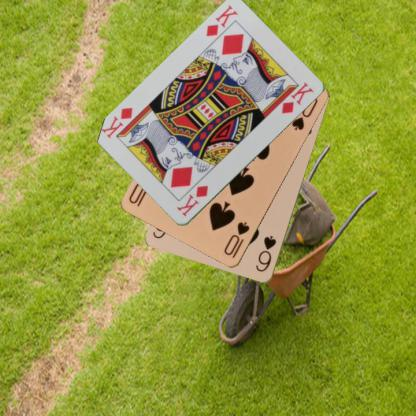10s: (222, 219, 252, 260)
6s: (253, 233, 278, 274)
Kd: (174, 182, 210, 218), (204, 2, 240, 38)
